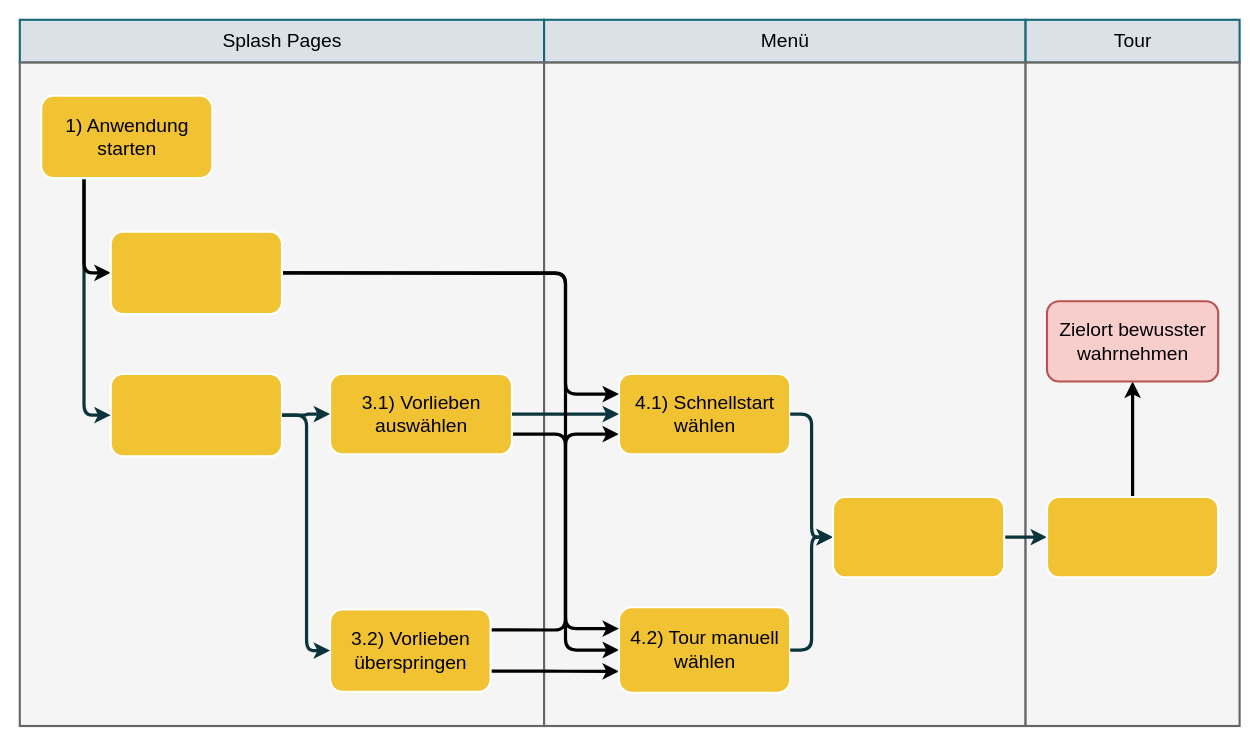
Some shapes in this 1258 by 745 pixel diagram are drawn without their labels. Here are the shapes that lost their labels. From the top down, the box of each, then its label:
(109, 230, 282, 315): 2.1) Tutorial überspringen
(109, 372, 282, 457): 2.2) Tutorial zur Kenntnis genommen
(831, 495, 1005, 578): 5) Tour starten
(1045, 495, 1219, 578): 6) Entdeckung durchführen
